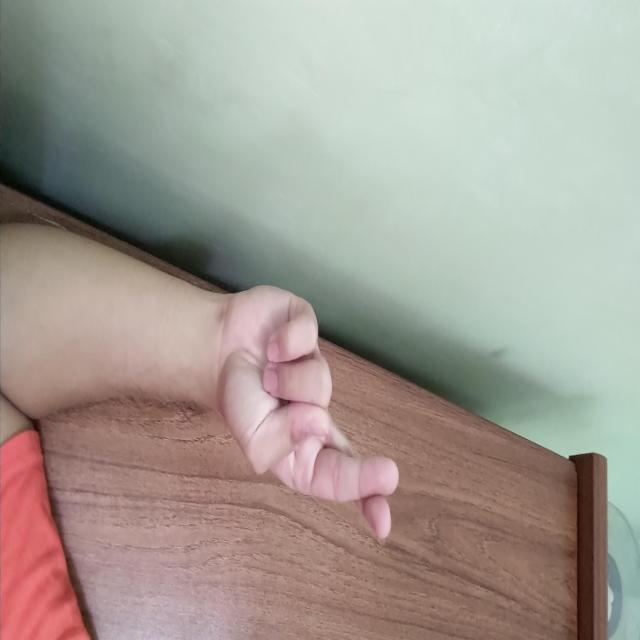R: (281, 239, 538, 422)
